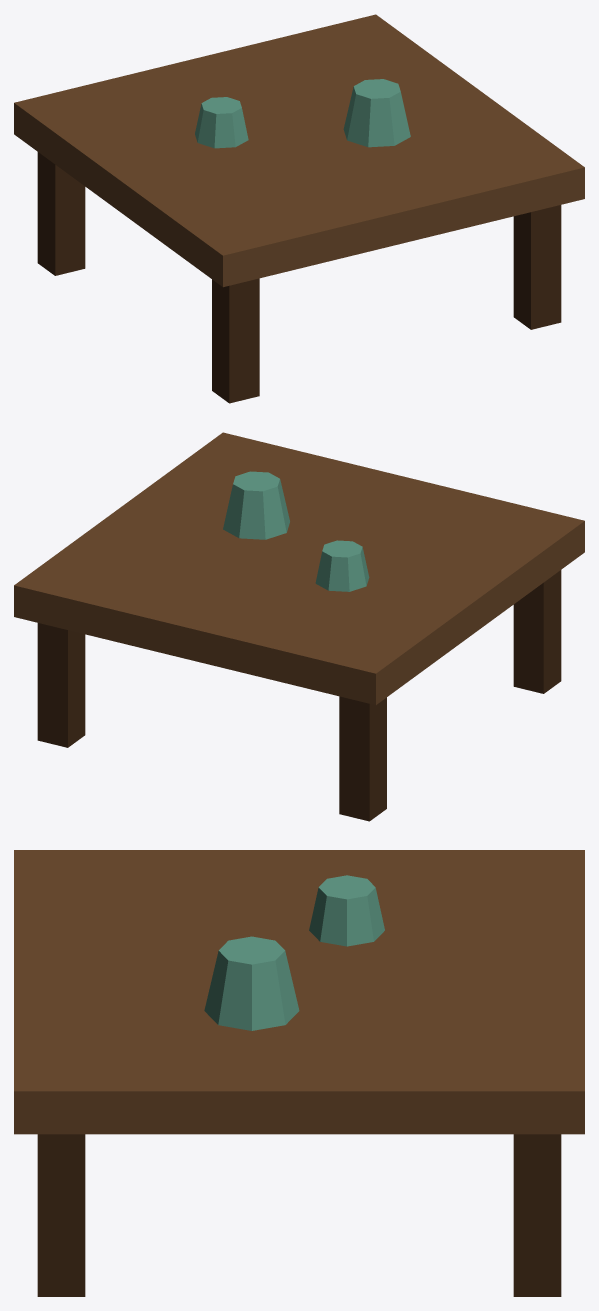
Rendered from tea-table.glb.
3 renders of one model, top to bottom at view 1: azimuth 30°, elevation 25°; view 2: azimuth 150°, elevation 25°; view 3: azimuth 270°, elevation 25°, orthographic. The views are drawn at different scales.
Parts seen in each view (by area): view 1: tea-table; view 2: tea-table; view 3: tea-table.
Part boxes in pixels (<box>): tea-table: <box>14,14,584,403</box>; tea-table: <box>14,432,584,821</box>; tea-table: <box>14,850,584,1296</box>.
Size of the model in its own units: 1.2 by 0.64 by 1.2.
